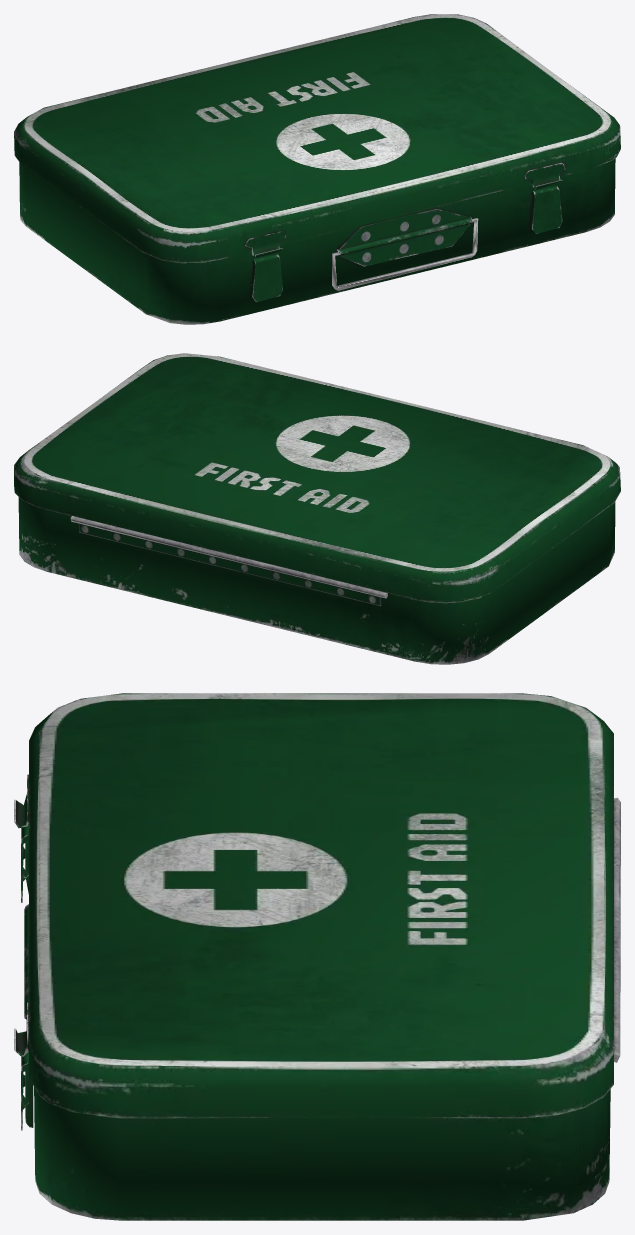
Rendered from medical_box.glb.
3 renders of one model, top to bottom at view 1: azimuth 30°, elevation 25°; view 2: azimuth 150°, elevation 25°; view 3: azimuth 270°, elevation 25°, orthographic. The views are drawn at different scales.
Visible parts, largest first — view 1: medical_box_latch; view 2: medical_box_latch; view 3: medical_box_latch.
Boxes of the visible parts, left/top/right/bottom form: medical_box_latch: left=14, top=14, right=620, bottom=324; medical_box_latch: left=14, top=353, right=620, bottom=664; medical_box_latch: left=14, top=693, right=620, bottom=1220.
Bounding box in the file's own units: 0.5255 × 0.0967 × 0.3501.
Materials: 1 (1 with a texture image).
